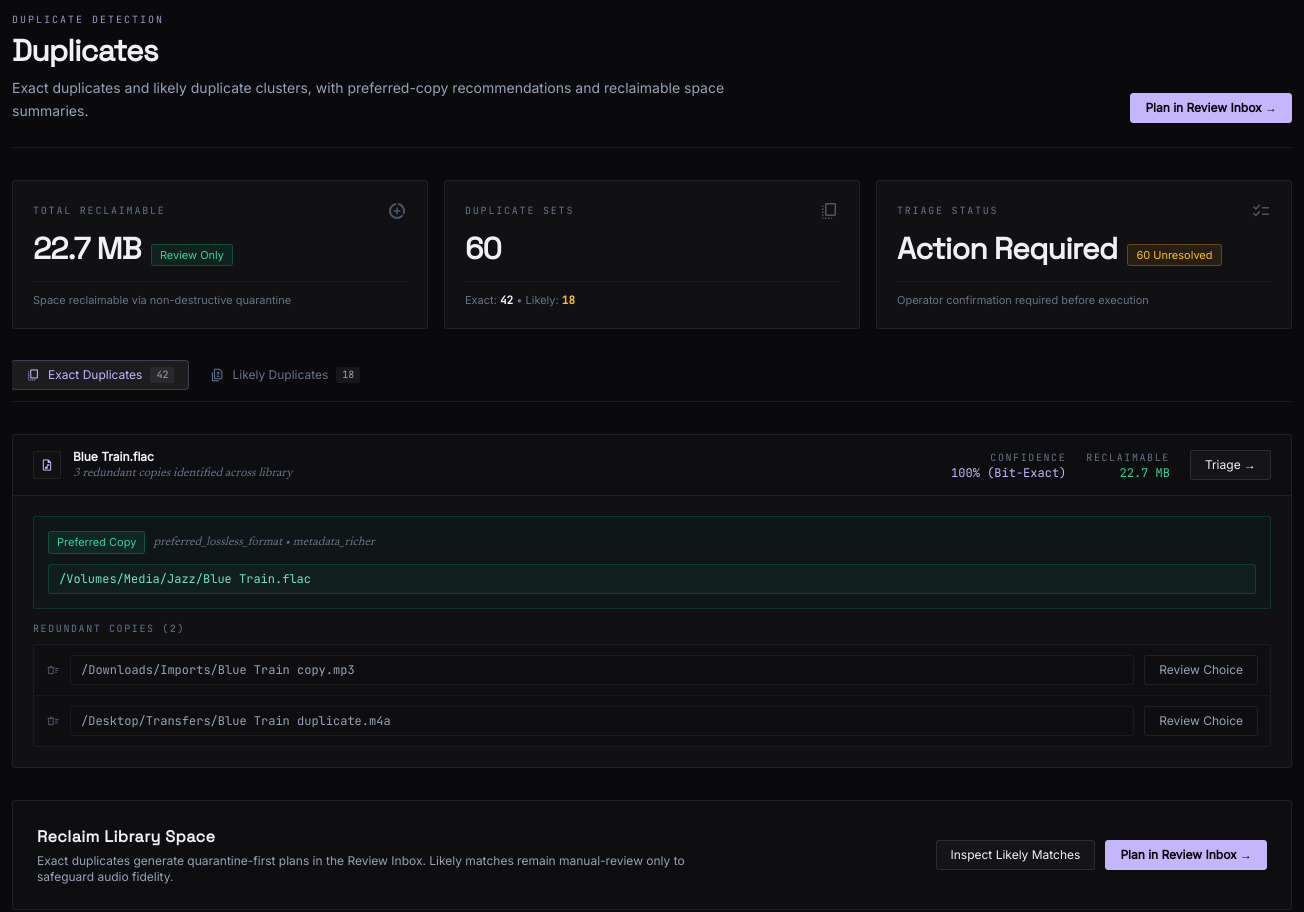
Test: Duplicates Page › keeps exact and likely duplicate groups semantically distinct via aria-pressed buttons
Expected: the text "100% (Bit-Exact)" is shown, [951, 464, 1066, 480]
Expected: the text "Preferred Copy" is shown, [48, 531, 145, 554]
// Click likely duplicates button
Click the button "Likely Duplicates 18" at (285, 375), box [196, 361, 374, 389]
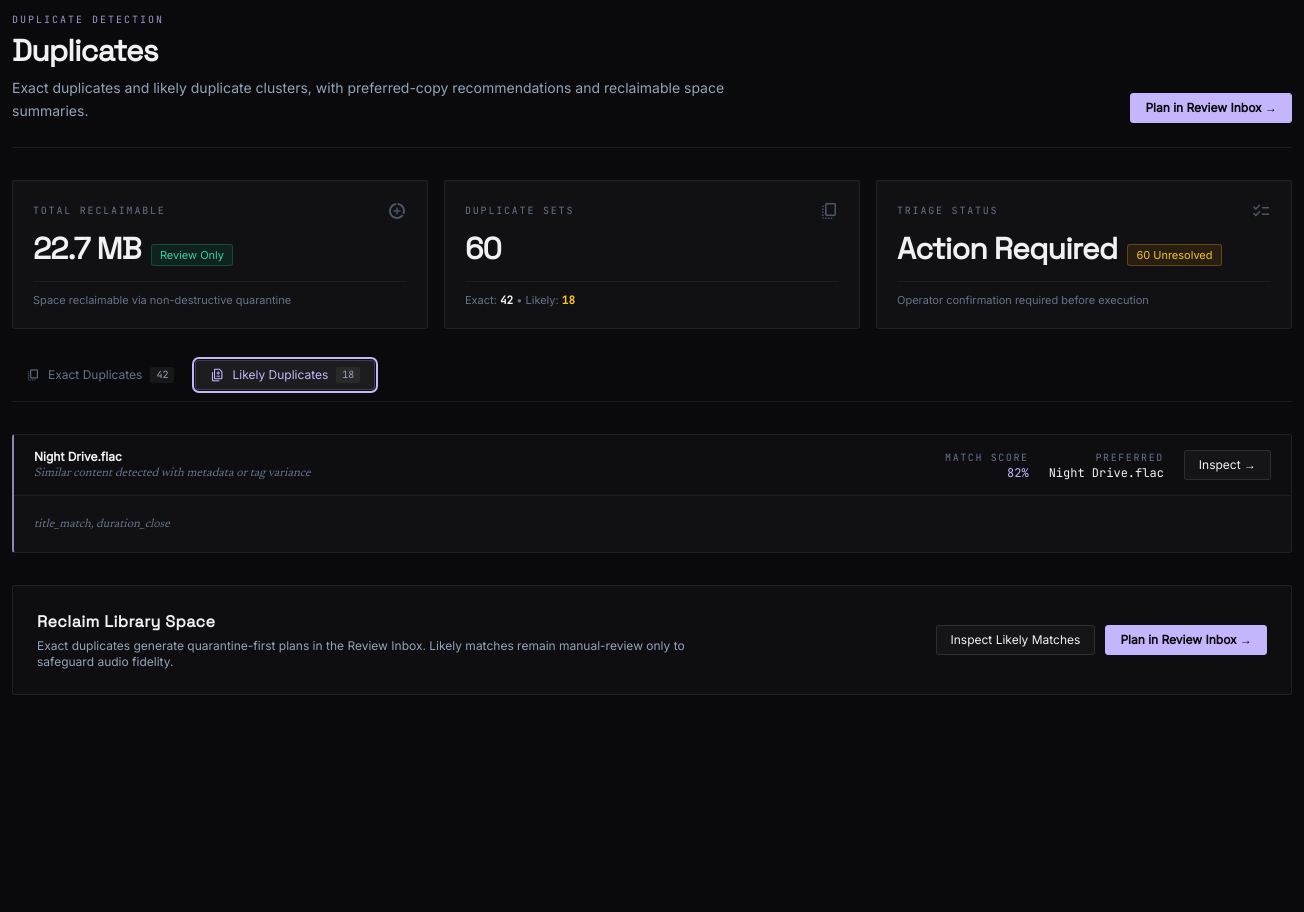
Result: the text "Match Score" is shown at [945, 450, 1029, 464]
Result: the text "Similar content detected with metadata or tag variance" is shown at [34, 465, 310, 481]
